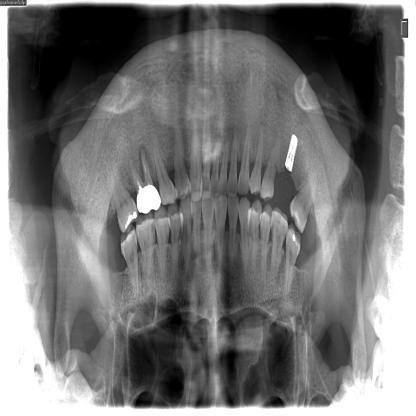ITI: (283, 130, 301, 172)
